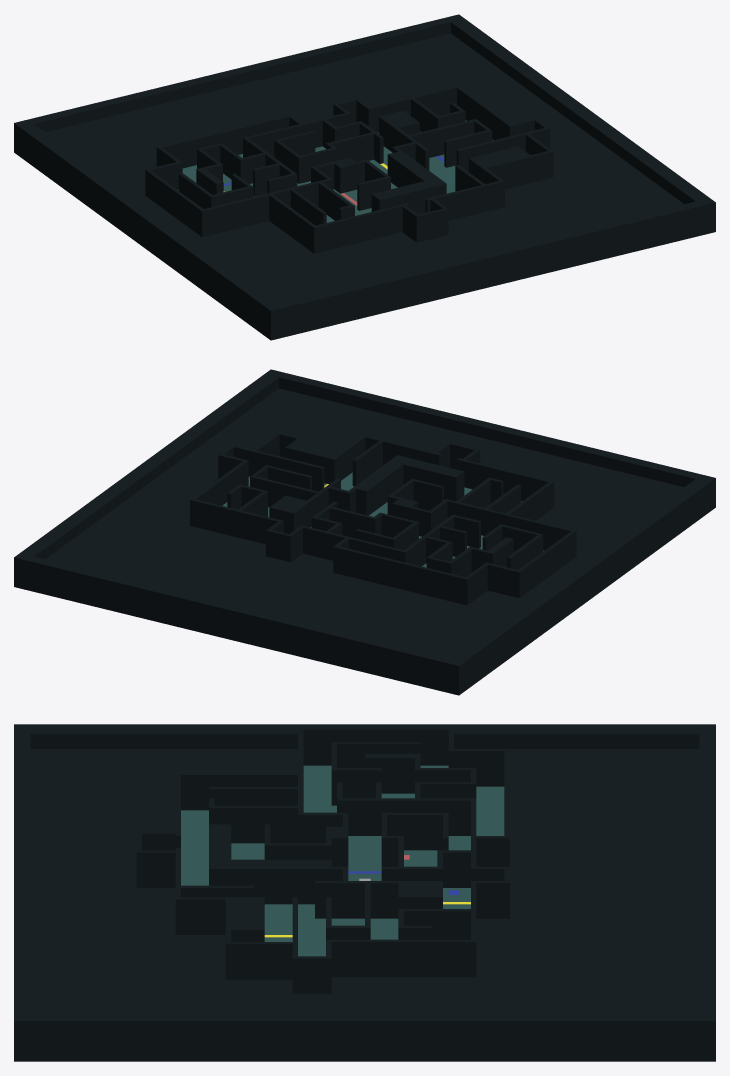
The model's file is Level.obj.
3 views of the same model, one above another, from view 1: azimuth 30°, elevation 25°; view 2: azimuth 150°, elevation 25°; view 3: azimuth 270°, elevation 25° (orthographic). The views are drawn at different scales.
Bounding box in the file's own units: 126 × 12 × 126.
Materials: 1 (1 with a texture image).
